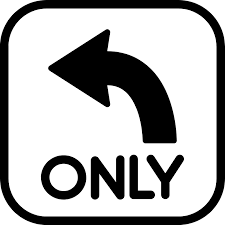left: (45, 24, 186, 148)
